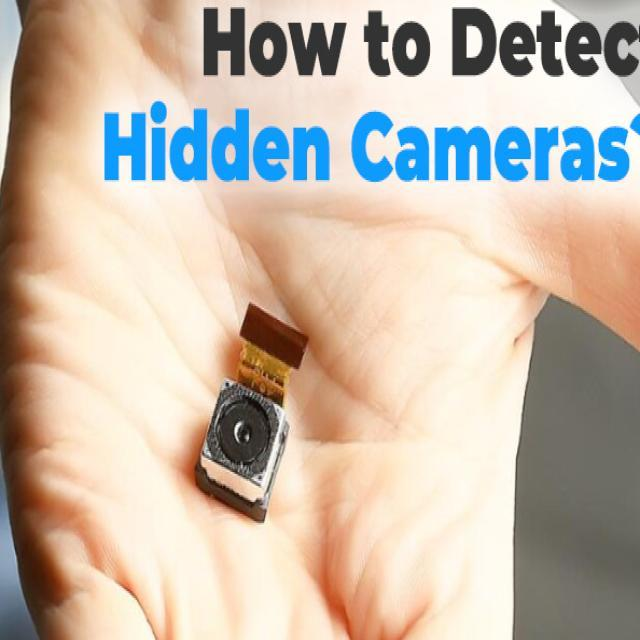hidden camera: (208, 384, 279, 485)
